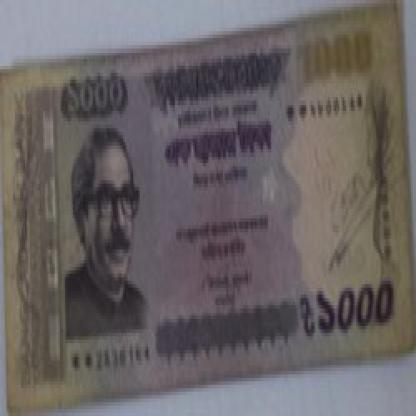One Thousand taka: (298, 278, 399, 336), (57, 66, 132, 121)
